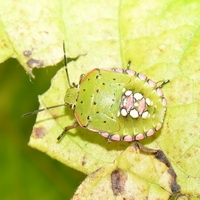insect: (63, 42, 168, 141)
